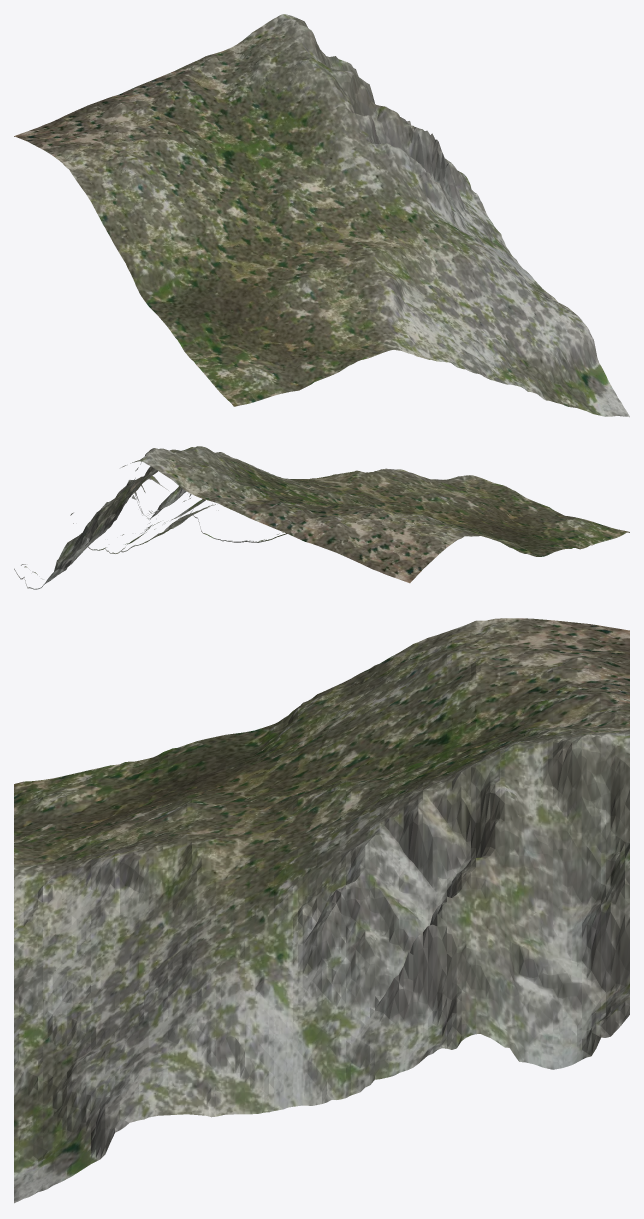
3 renders of one model, top to bottom at view 1: azimuth 30°, elevation 25°; view 2: azimuth 150°, elevation 25°; view 3: azimuth 270°, elevation 25°, orthographic. The views are drawn at different scales.
Size of the model in its own units: 500 by 331 by 481.
1 material, 1 textured.
